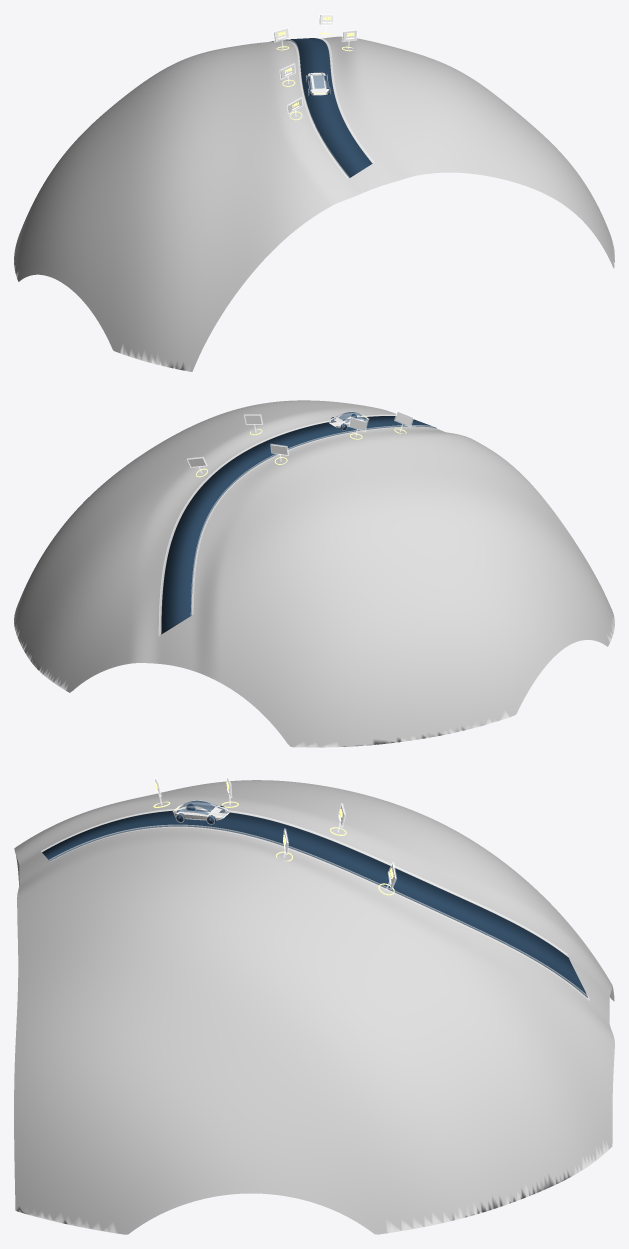
File: el_rescate_timeline_scene.glb
The picture shows the model from 3 angles, top to bottom: view 1: azimuth 30°, elevation 25°; view 2: azimuth 150°, elevation 25°; view 3: azimuth 270°, elevation 25°; orthographic projection. The views are drawn at different scales.
Parts seen in each view (by area): view 1: Curved_Earth_Meadow, Timeline_Path_Surface; view 2: Curved_Earth_Meadow, Timeline_Path_Surface, Timeline_Glass_Curb_R, Timeline_Glass_Curb_L; view 3: Curved_Earth_Meadow, Timeline_Path_Surface, Timeline_Glass_Curb_L, Timeline_Glass_Curb_R, Car_Body_SemiDarkBlue.
Part boxes in pixels (x1,y1,x2,y2): Curved_Earth_Meadow: (14, 36, 614, 371); Timeline_Path_Surface: (269, 38, 372, 177); Curved_Earth_Meadow: (14, 400, 614, 747); Timeline_Path_Surface: (161, 416, 436, 634); Timeline_Glass_Curb_R: (190, 425, 438, 614); Timeline_Glass_Curb_L: (158, 414, 396, 635); Curved_Earth_Meadow: (14, 780, 614, 1234); Timeline_Path_Surface: (42, 810, 587, 997); Timeline_Glass_Curb_L: (49, 824, 589, 1000); Timeline_Glass_Curb_R: (41, 808, 568, 956); Car_Body_SemiDarkBlue: (173, 800, 228, 820).
Size of the model in its own units: 42.71 by 16.92 by 33.6.
